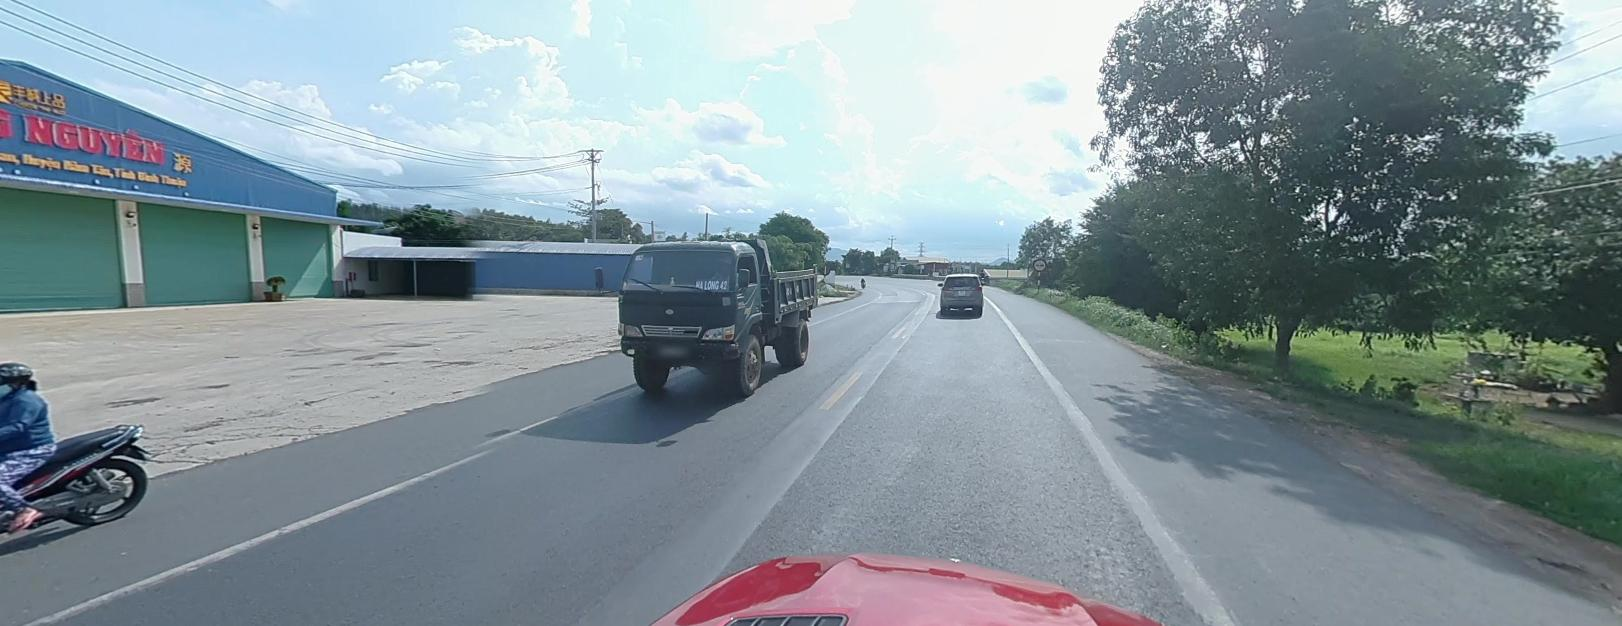Cam con lai: (1033, 258, 1045, 270)
